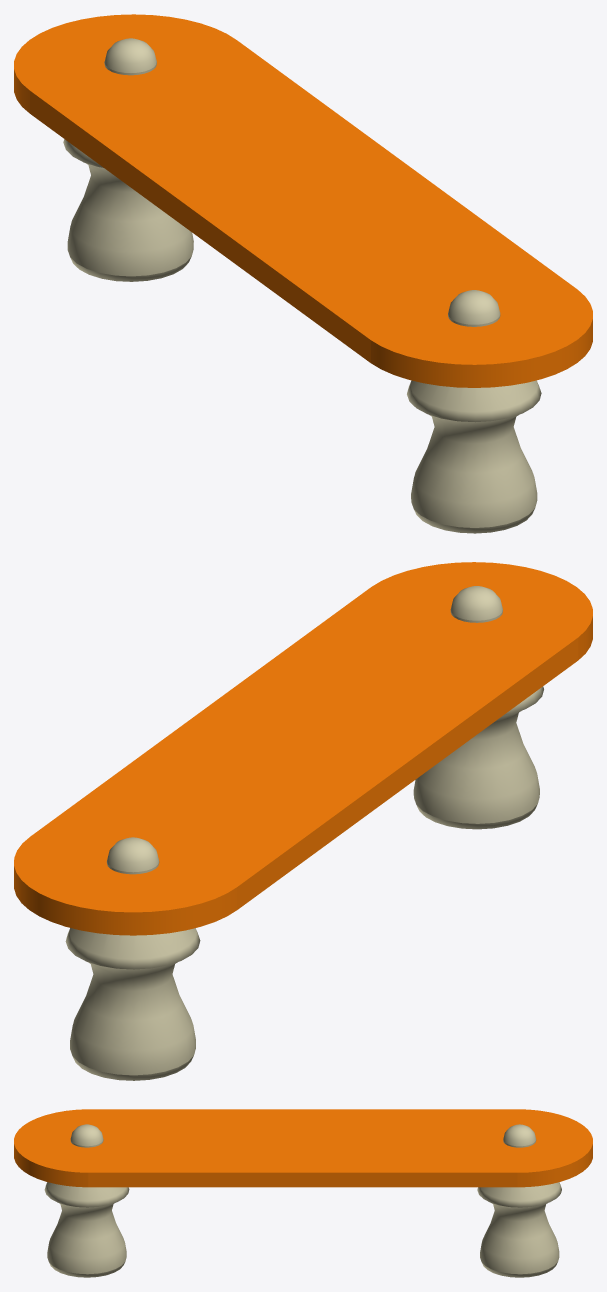
The picture shows the model from 3 angles, top to bottom: view 1: azimuth 30°, elevation 25°; view 2: azimuth 150°, elevation 25°; view 3: azimuth 270°, elevation 25°; orthographic projection. The views are drawn at different scales.
Visible parts, largest first — view 1: SM_Base; view 2: SM_Base; view 3: SM_Base.
Part boxes in pixels (bbox=[...]): SM_Base: bbox=[14, 14, 592, 533]; SM_Base: bbox=[14, 562, 592, 1080]; SM_Base: bbox=[14, 1109, 592, 1277].
Bounding box in the file's own units: 140 × 540 × 141.
